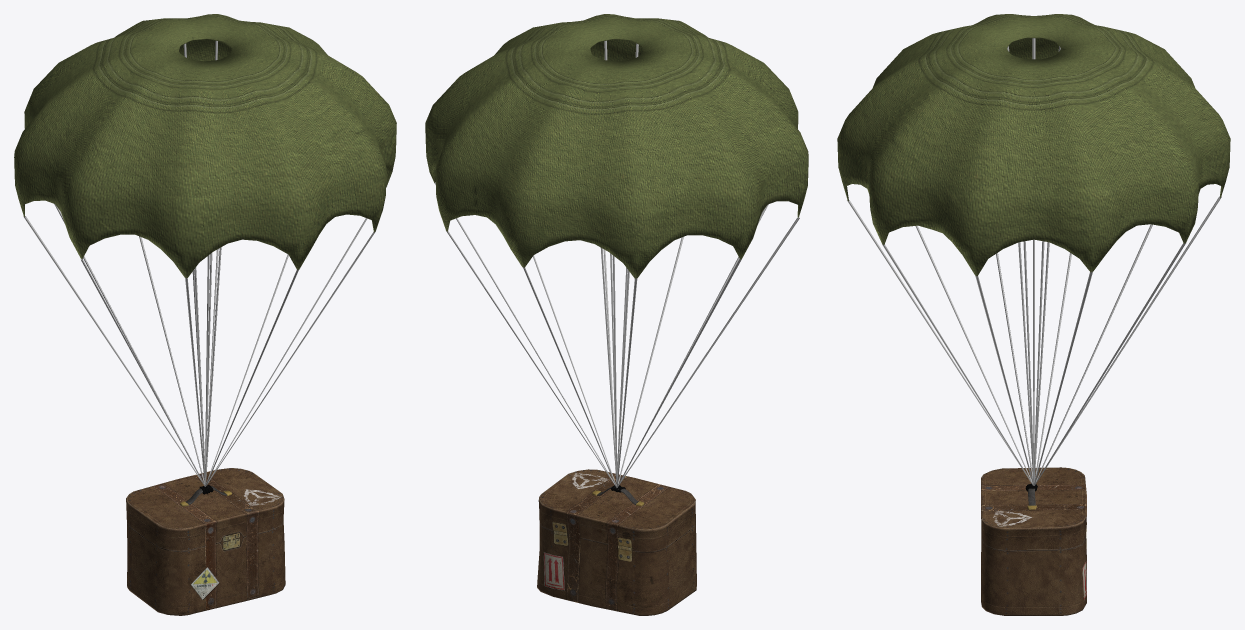
File: prop_parachuteCrate.fbx
3 renders of one model, left to right at view 1: azimuth 30°, elevation 25°; view 2: azimuth 150°, elevation 25°; view 3: azimuth 270°, elevation 25°, orthographic.
Parts seen in each view (by area): view 1: prop_parachuteCrate_chute_001, prop_parachuteCrate_crate_001; view 2: prop_parachuteCrate_chute_001, prop_parachuteCrate_crate_001; view 3: prop_parachuteCrate_chute_001, prop_parachuteCrate_crate_001.
Boxes of the visible parts, x1,y1,x2,y2 form: prop_parachuteCrate_chute_001: (14, 14, 396, 486); prop_parachuteCrate_crate_001: (126, 468, 285, 615); prop_parachuteCrate_chute_001: (425, 14, 808, 487); prop_parachuteCrate_crate_001: (537, 469, 696, 615); prop_parachuteCrate_chute_001: (837, 14, 1230, 485); prop_parachuteCrate_crate_001: (981, 467, 1086, 615).
Size of the model in its own units: 239 by 381 by 251.
